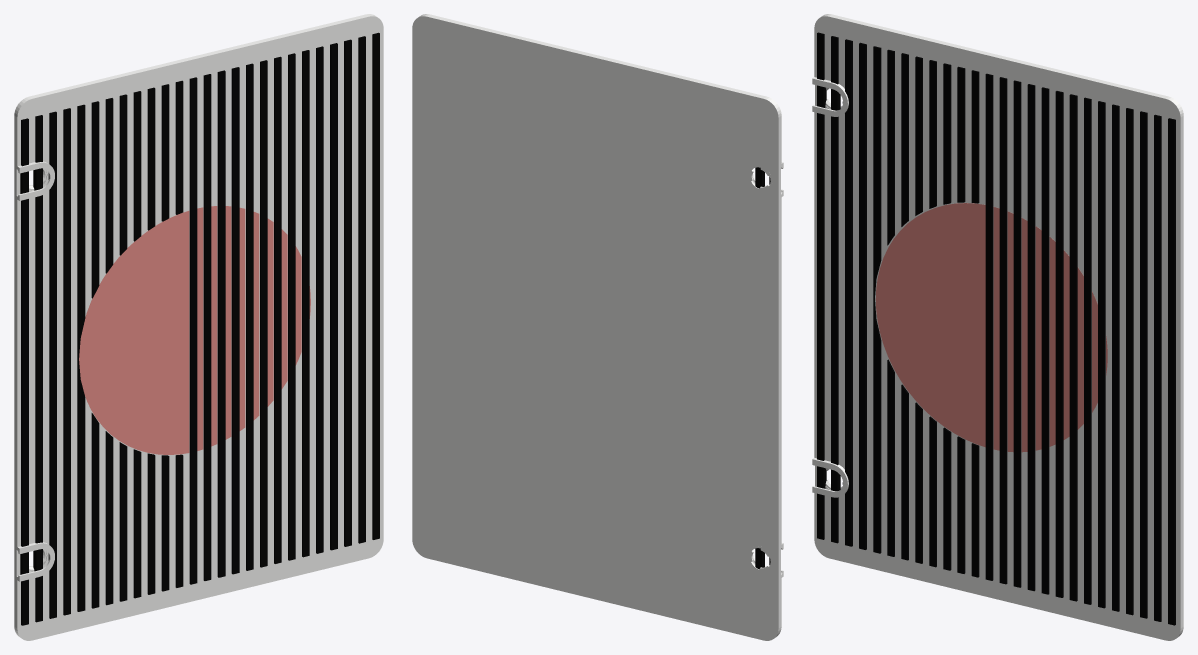
File: a5_only_cover_v1.glb
3 renders of one model, left to right at view 1: azimuth 30°, elevation 25°; view 2: azimuth 150°, elevation 25°; view 3: azimuth 330°, elevation 25°, orthographic.
Visible parts, largest first — view 1: Body1, Body41, Body10, Body23, Body26, Body7, Body3 (1), Body22, Body11, Body27, Body5, Body12 (+31 smaller); view 2: Body1; view 3: Body1, Body41, Body26, Body6, Body11, Body23, Body27, Body7, Body10, Body3 (1), Body21, Body12 (+31 smaller).
Part boxes in pixels (x1,y1,x2,y2): Body1: [14, 14, 383, 640]; Body41: [79, 211, 189, 454]; Body10: [203, 74, 211, 580]; Body23: [231, 67, 239, 574]; Body26: [189, 77, 197, 584]; Body7: [217, 70, 225, 577]; Body3 (1): [77, 104, 85, 611]; Body22: [288, 53, 295, 560]; Body11: [260, 60, 267, 567]; Body27: [246, 63, 253, 570]; Body5: [330, 43, 337, 550]; Body12: [316, 46, 323, 553]; Body1: [412, 14, 783, 640]; Body1: [812, 14, 1183, 640]; Body41: [875, 203, 985, 447]; Body26: [985, 73, 993, 580]; Body6: [1069, 94, 1077, 601]; Body11: [1055, 91, 1063, 597]; Body23: [1027, 84, 1035, 591]; Body27: [1041, 87, 1049, 594]; Body7: [1013, 80, 1021, 587]; Body10: [999, 77, 1007, 584]; Body3 (1): [873, 46, 881, 553]; Body21: [1140, 111, 1147, 618]; Body12: [1112, 104, 1119, 611].
Size of the model in its own units: 0.15 by 0.212 by 0.00369.
